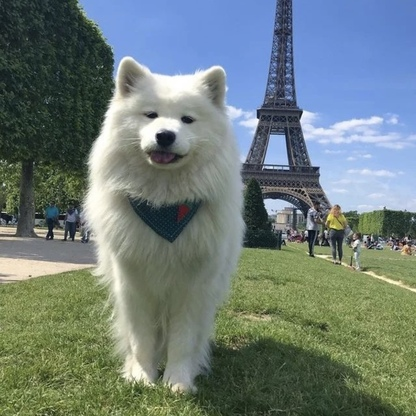samoyed: (76, 47, 251, 396)
